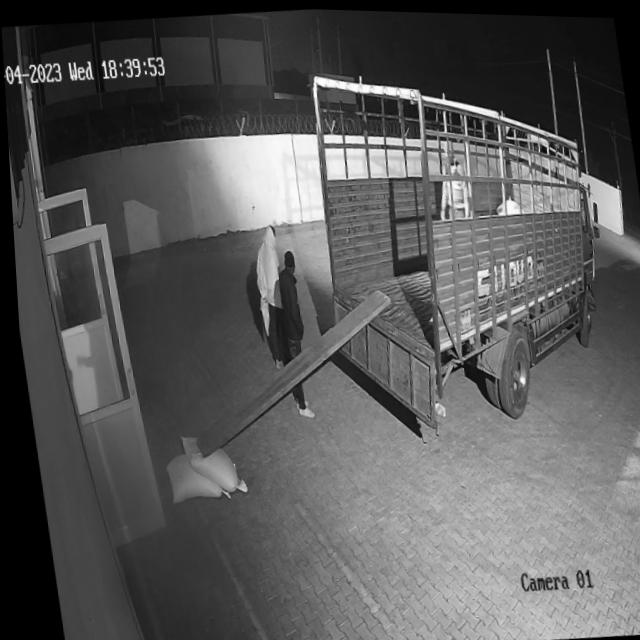sack: (174, 428, 235, 494), (159, 449, 216, 501)
